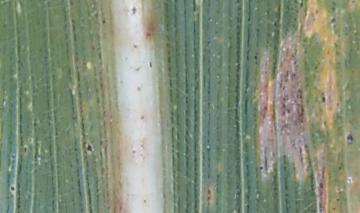tarspot: (345, 133, 354, 145), (85, 143, 94, 152), (132, 6, 138, 15), (330, 17, 337, 24), (321, 95, 327, 103), (10, 184, 15, 193), (101, 19, 107, 25), (258, 164, 264, 170), (23, 146, 28, 153)
